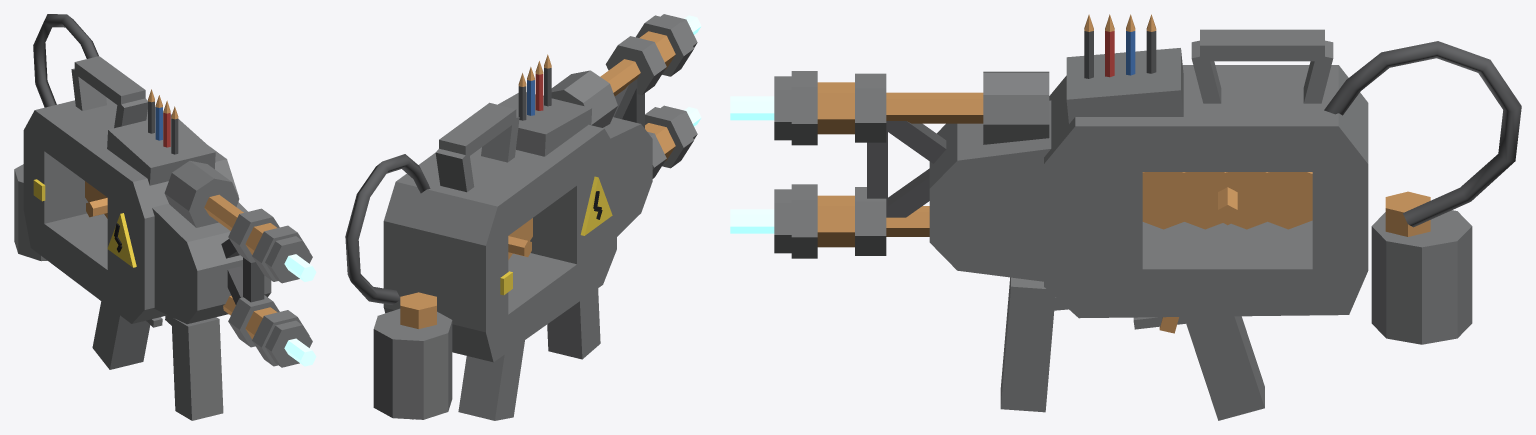
Rendered from SM_Wep_TeslaGun_01.fbx.
3 renders of one model, left to right at view 1: azimuth 30°, elevation 25°; view 2: azimuth 150°, elevation 25°; view 3: azimuth 270°, elevation 25°, orthographic. The views are drawn at different scales.
Visible parts, largest first — view 1: SM_Wep_TeslaGun_01; view 2: SM_Wep_TeslaGun_01; view 3: SM_Wep_TeslaGun_01.
Part boxes in pixels (x1,y1,x2,y2): SM_Wep_TeslaGun_01: (14,14,316,420); SM_Wep_TeslaGun_01: (345,14,701,420); SM_Wep_TeslaGun_01: (730,14,1521,420).
Size of the model in its own units: 23.26 by 66.23 by 120.
